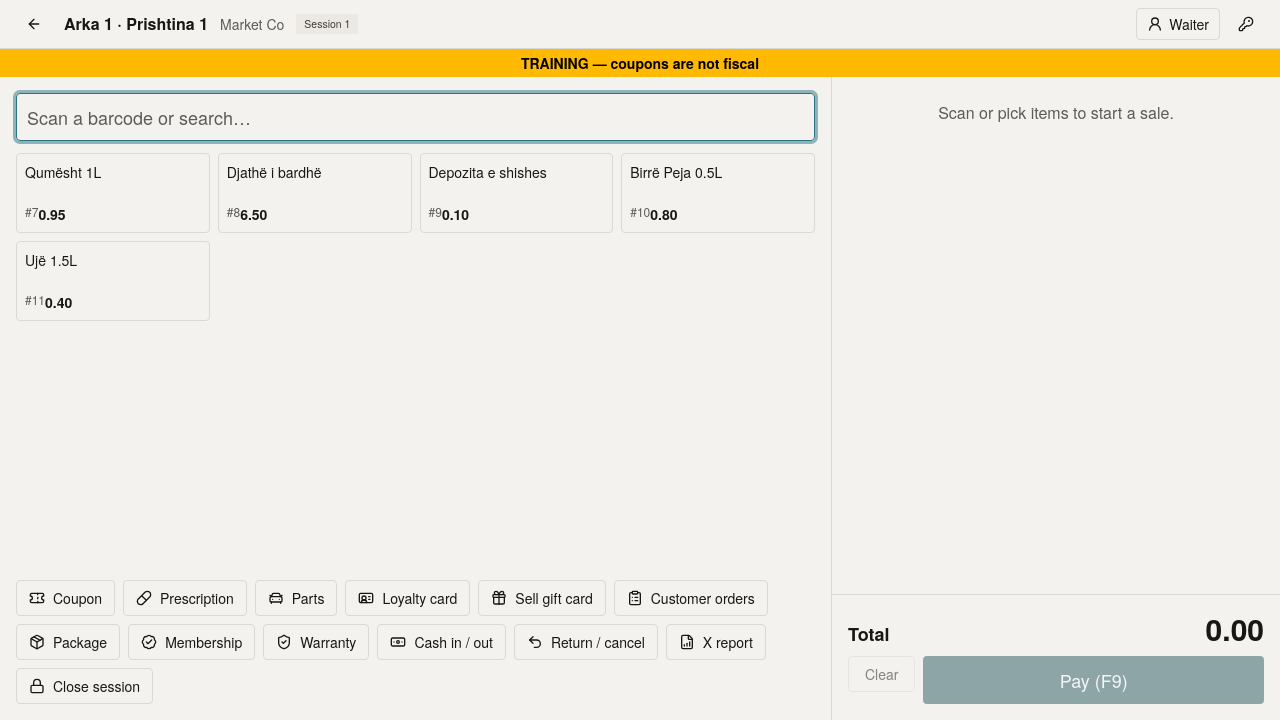
Test: Till — grocery (P2) › asks the weight of an item sold by weight picked without a label
Click the button "Djathë i bardhë #8 6.50": (315, 193) top-left (218, 153), bottom-right (412, 233)
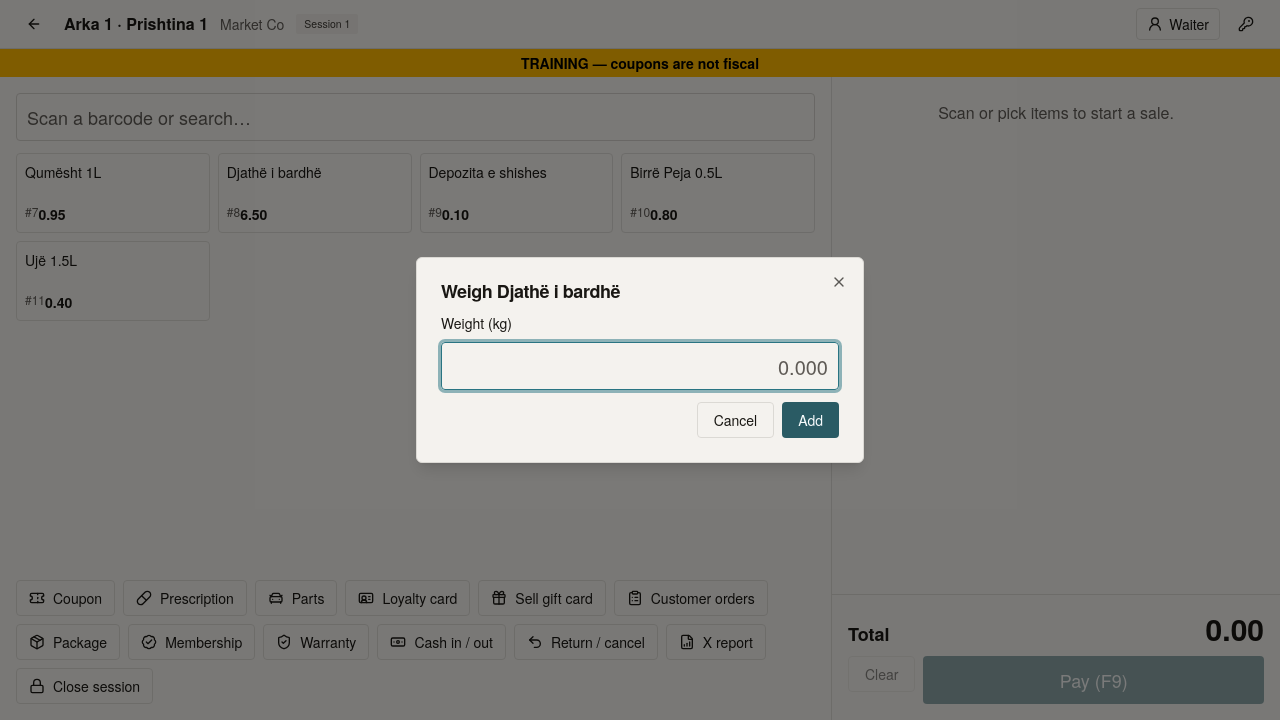
In the field labelled "Weight (kg)": (640, 366) top-left (441, 342), bottom-right (839, 390), type "0.5555"
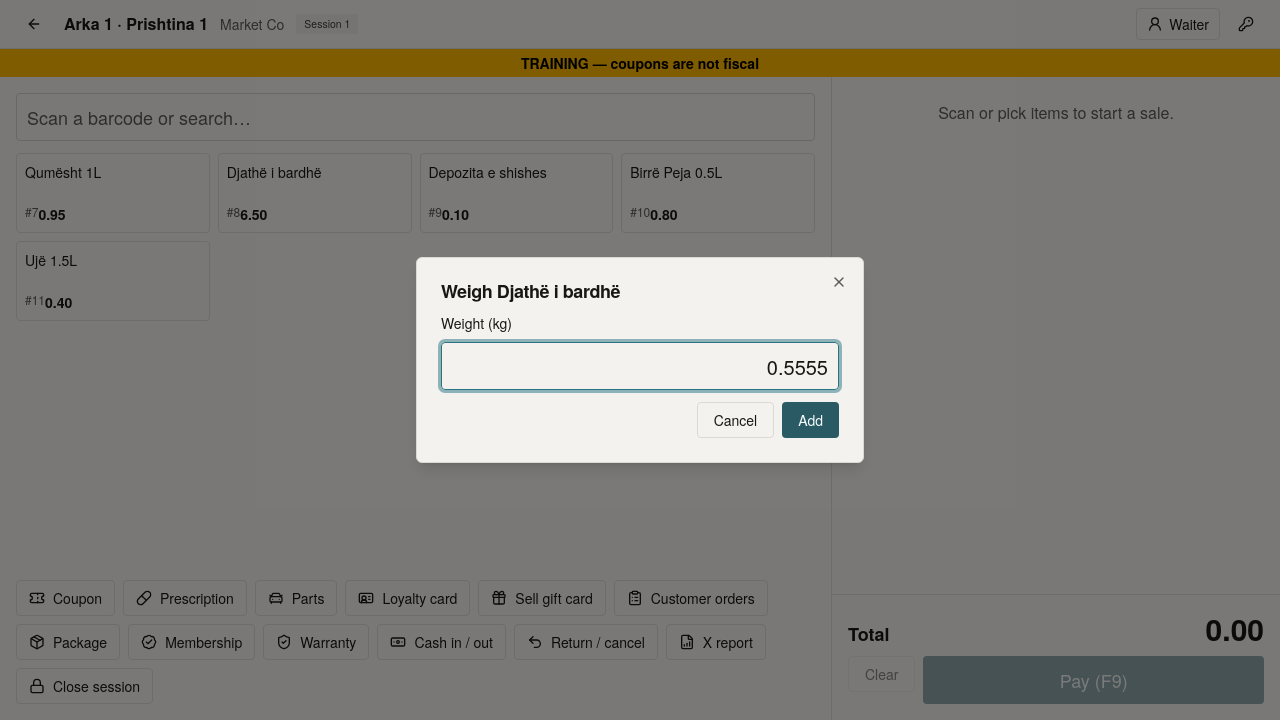
Submit the form labelled "Weight (kg)", box top-left (441, 316), bottom-right (839, 438)
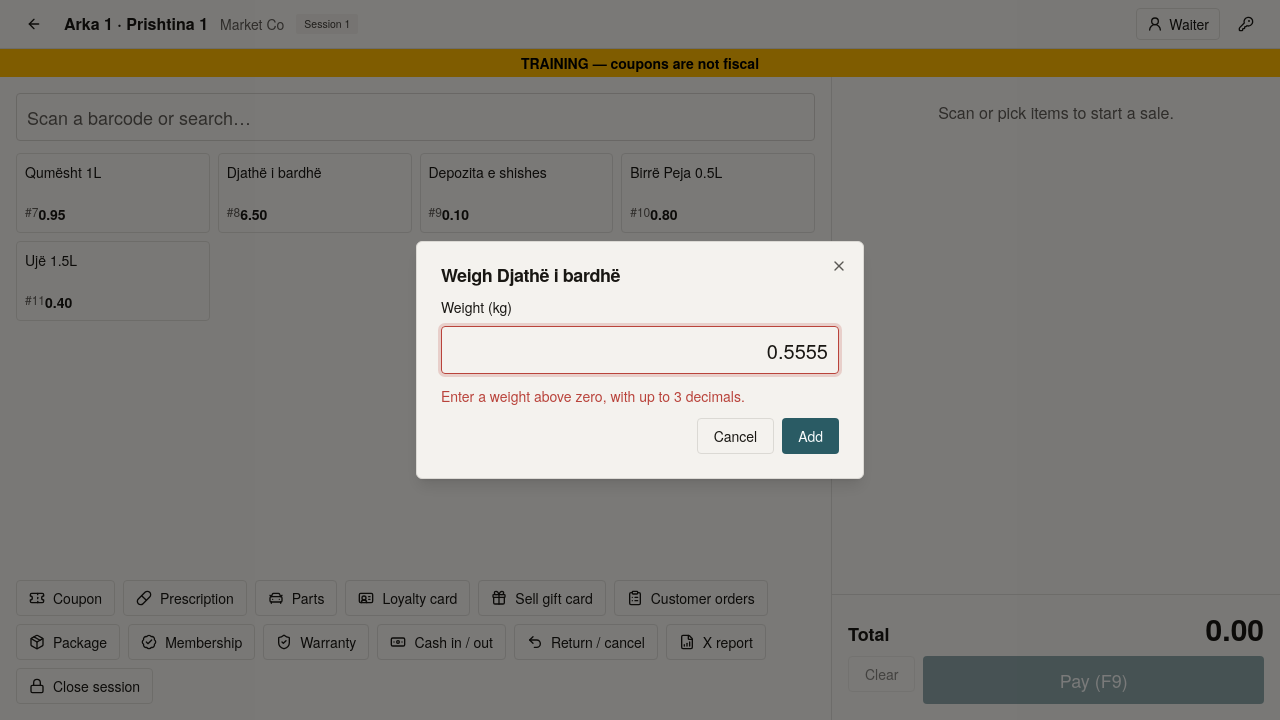
Expected: the text "Enter a weight above zero, with up to 3 decimals." is shown, top-left (441, 386), bottom-right (745, 406)
Replace the text in the field labelled "Weight (kg)" with "0.555": (640, 350) top-left (441, 326), bottom-right (839, 374)
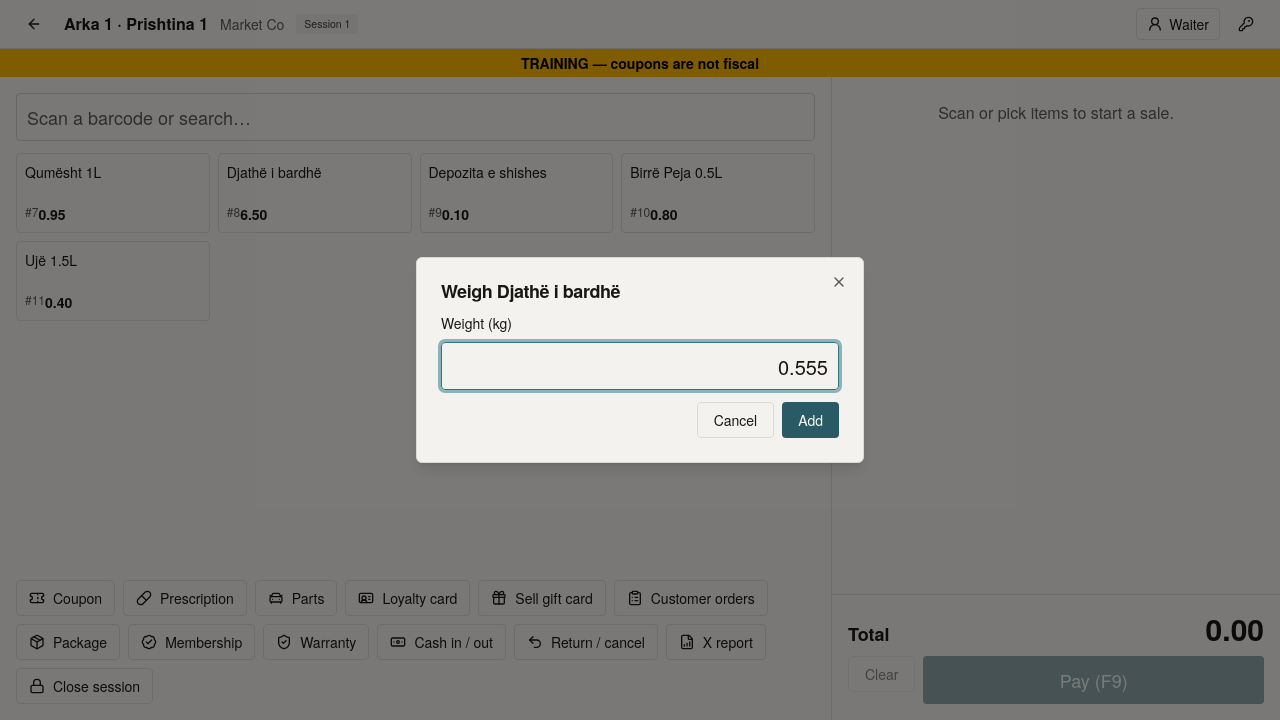
Submit the form labelled "Weight (kg)", box top-left (441, 316), bottom-right (839, 438)
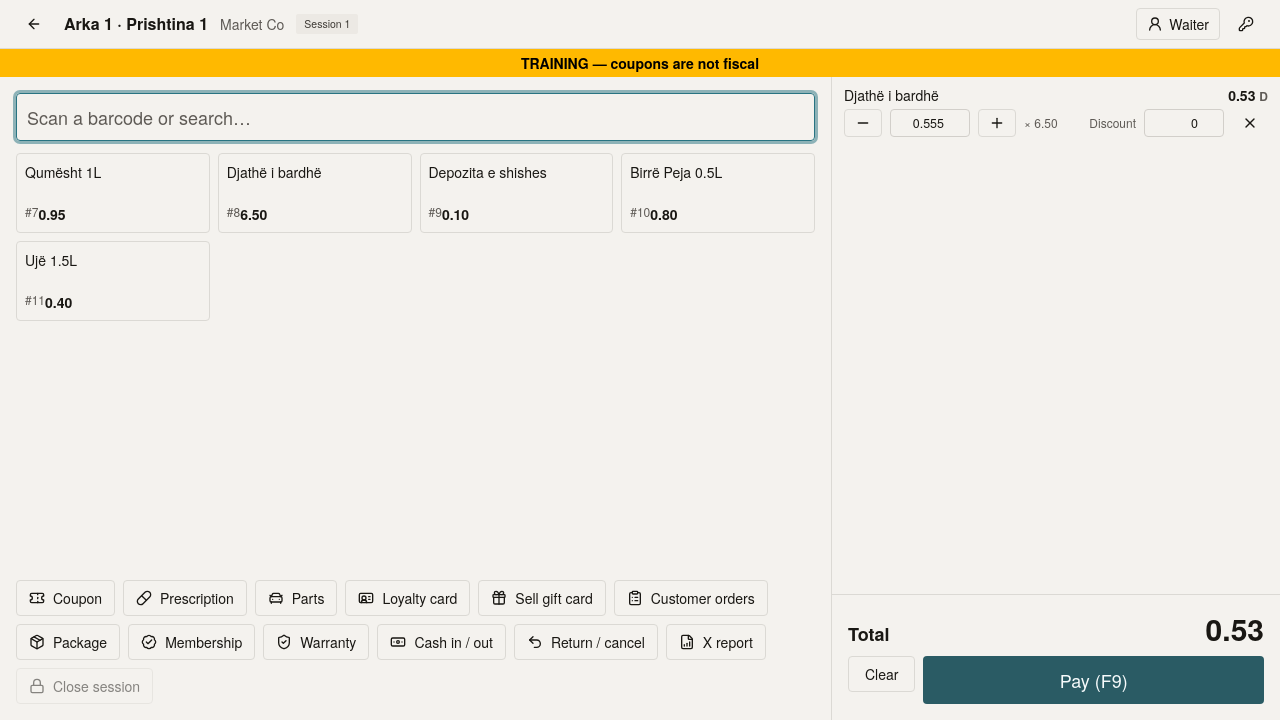
Expected: the dialog is gone
